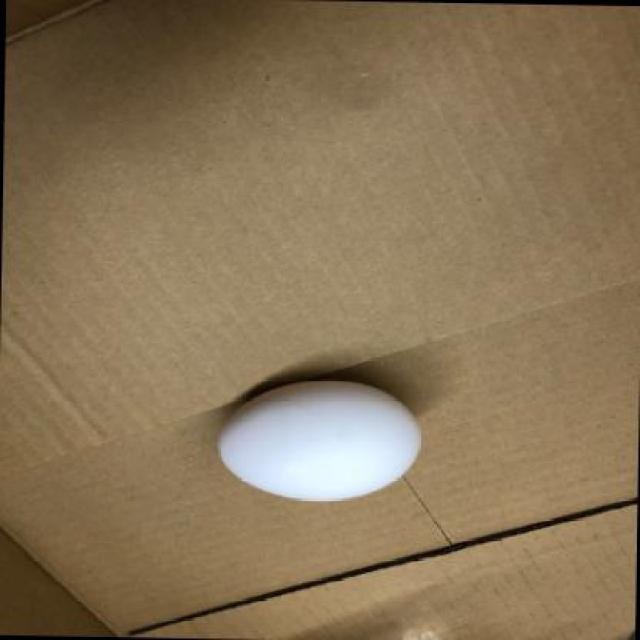egg: (212, 372, 428, 511)
